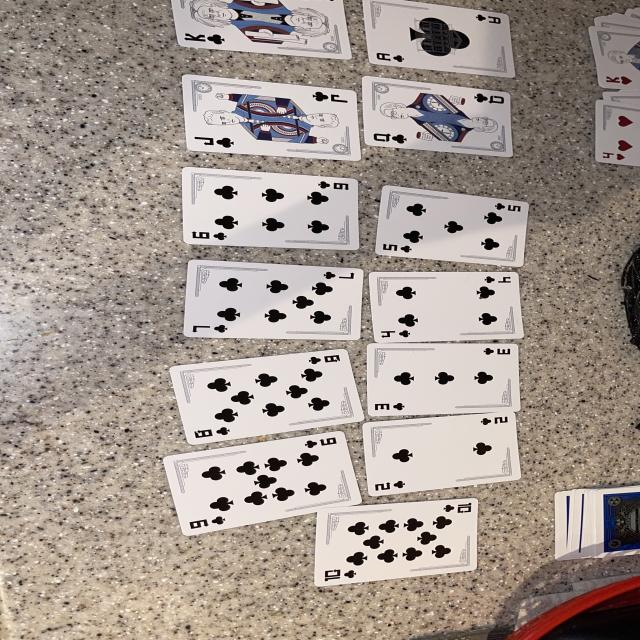10 of clubs: (313, 499, 478, 586)
2 of clubs: (362, 412, 522, 496)
3 of clubs: (367, 344, 520, 416)
4 of clubs: (369, 271, 524, 342)
4 of hearts: (596, 100, 640, 166)
5 of clubs: (376, 185, 529, 266)
6 of clubs: (182, 168, 360, 250)
7 of clubs: (182, 260, 364, 340)
8 of clubs: (169, 349, 364, 445)
9 of clubs: (162, 431, 362, 535)
Ace of clubs: (362, 0, 516, 78)
Jack of clubs: (182, 75, 362, 161)
King of clubs: (171, 0, 351, 59)
King of hearts: (589, 26, 640, 90)
Queen of clubs: (362, 76, 513, 158)
card back: (598, 490, 640, 554)
